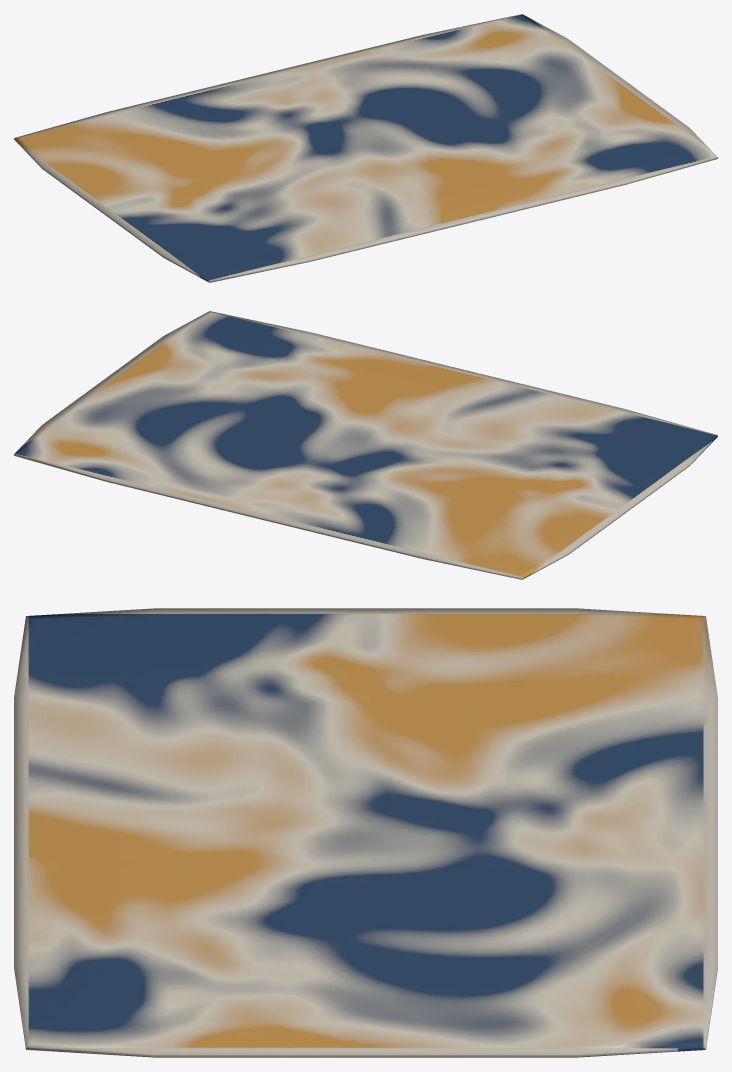
File: modern-blue.glb
The picture shows the model from 3 angles, top to bottom: view 1: azimuth 30°, elevation 25°; view 2: azimuth 150°, elevation 25°; view 3: azimuth 270°, elevation 25°; orthographic projection. The views are drawn at different scales.
Visible parts, largest first — view 1: rug_wool; view 2: rug_wool; view 3: rug_wool.
Part boxes in pixels (x1,y1,x2,y2): rug_wool: (14, 14, 717, 282); rug_wool: (14, 311, 717, 579); rug_wool: (14, 608, 717, 1057).
Size of the model in its own units: 2.4 by 0.012 by 1.6.
1 material, 1 textured.
